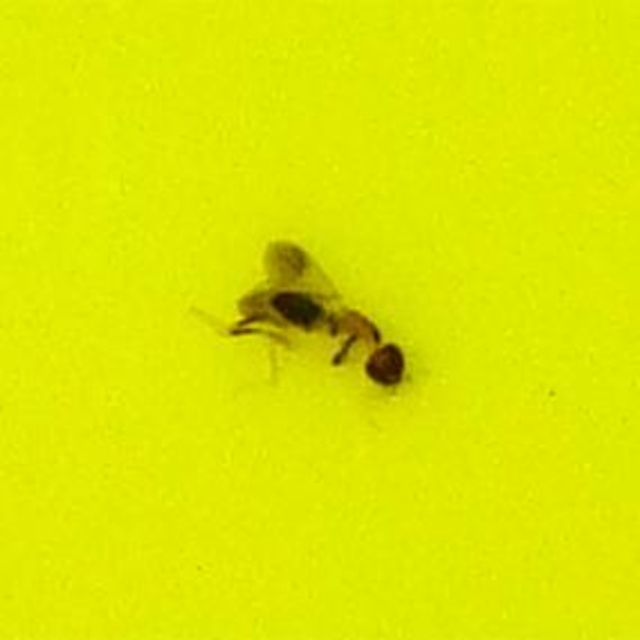Brachycera: (225, 242, 415, 398)
